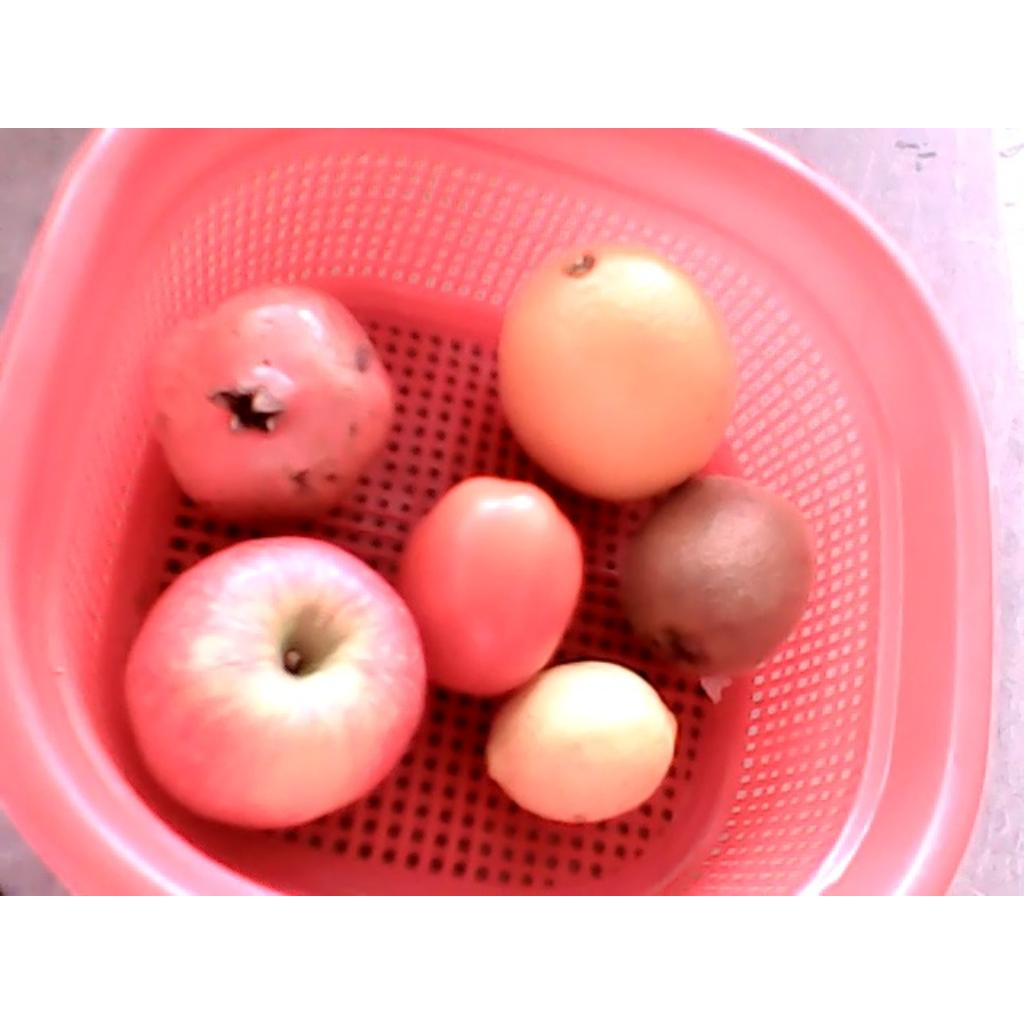apple: (123, 536, 430, 830)
kiwi: (620, 476, 812, 677)
lemon: (396, 474, 588, 698), (487, 660, 680, 823)
orange: (498, 241, 736, 501)
pomegranate: (147, 283, 395, 527)
